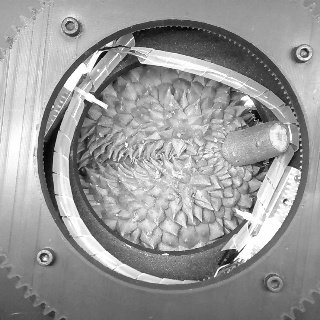base: (215, 125, 251, 170)
end: (268, 122, 288, 153)
